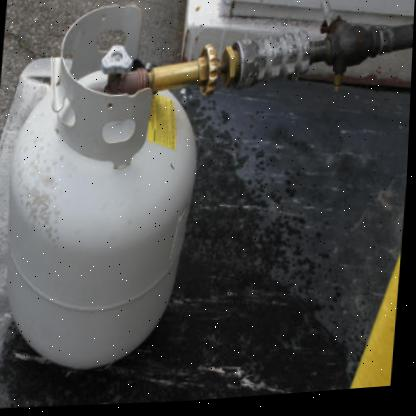gas-tank: (0, 0, 226, 390)
